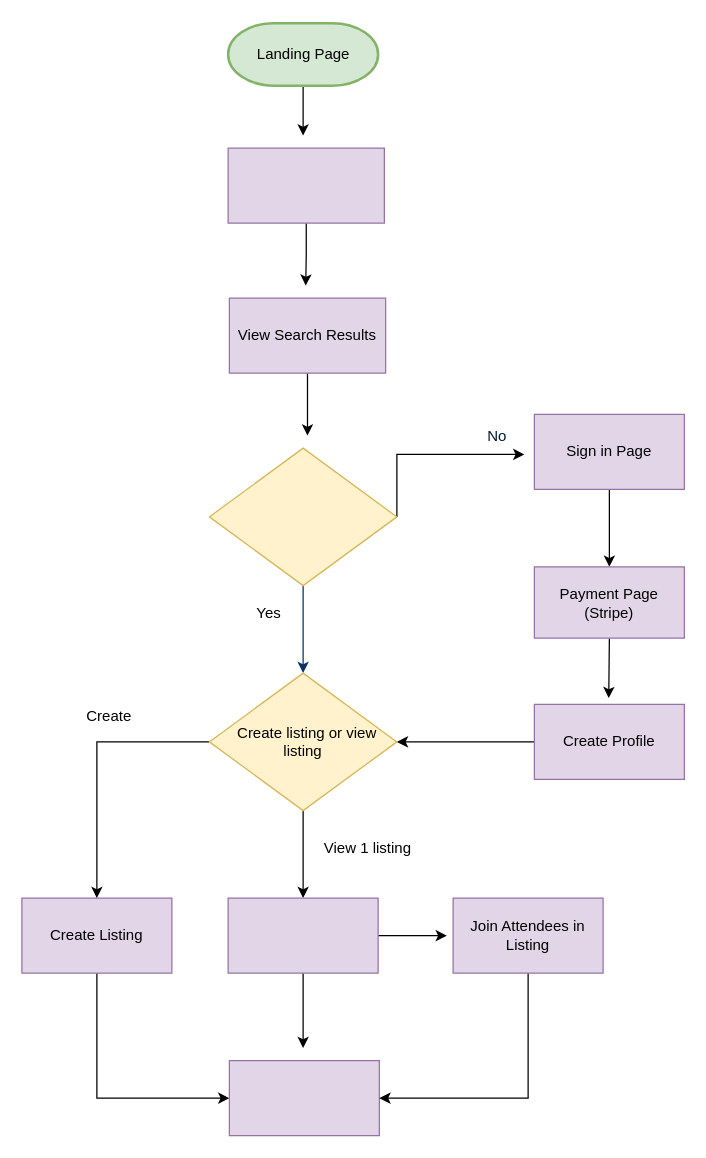
This 706x1158 diagram has some shape labels left out. Each missing label, with the centre of its shape:
"Is the User Logged in?" belongs at pixel 302 516.
"My Listings Page" belongs at pixel 303 1097.
"Search Hobby and Location" belongs at pixel 305 185.
"View Listing" belongs at pixel 302 935.
